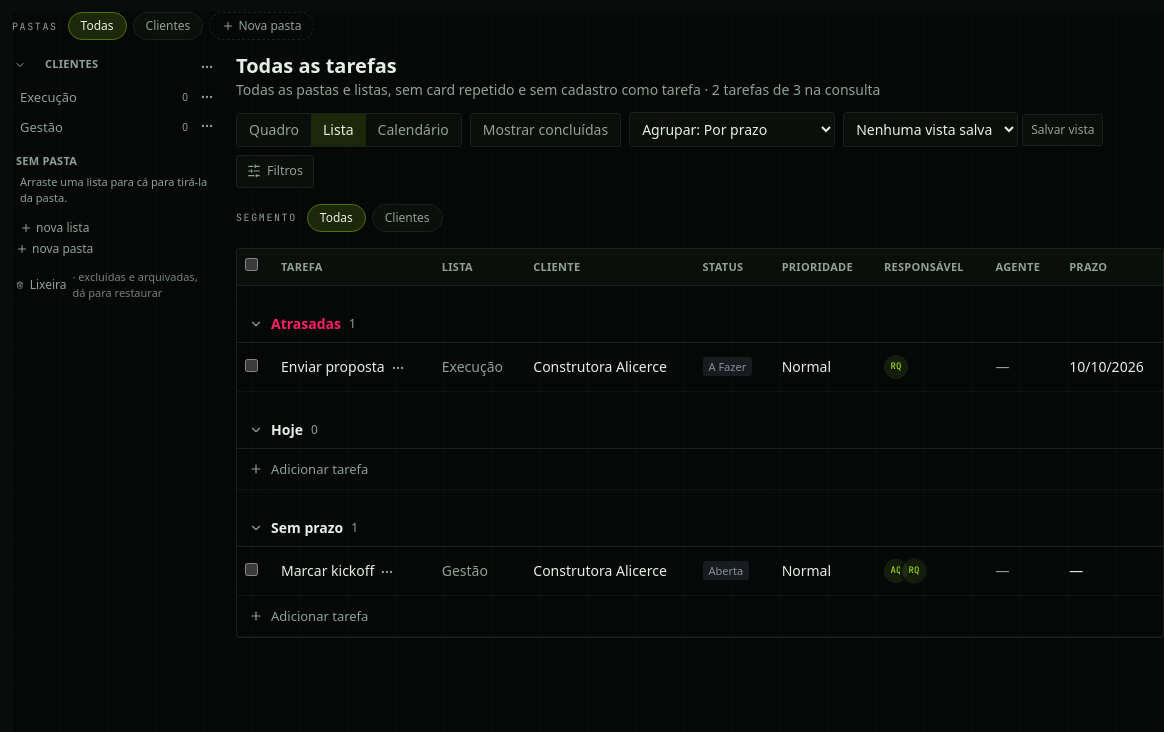
Test: F4: seleção em lote na Lista › Concluir manda um PATCH por tarefa, com a etapa fechada da lista dela e a versão lida; o conflito é contado à parte
The image size is (1164, 732).
Click the checkbox named "Selecionar Enviar proposta". click: (252,365)
box: [245, 359, 258, 372]
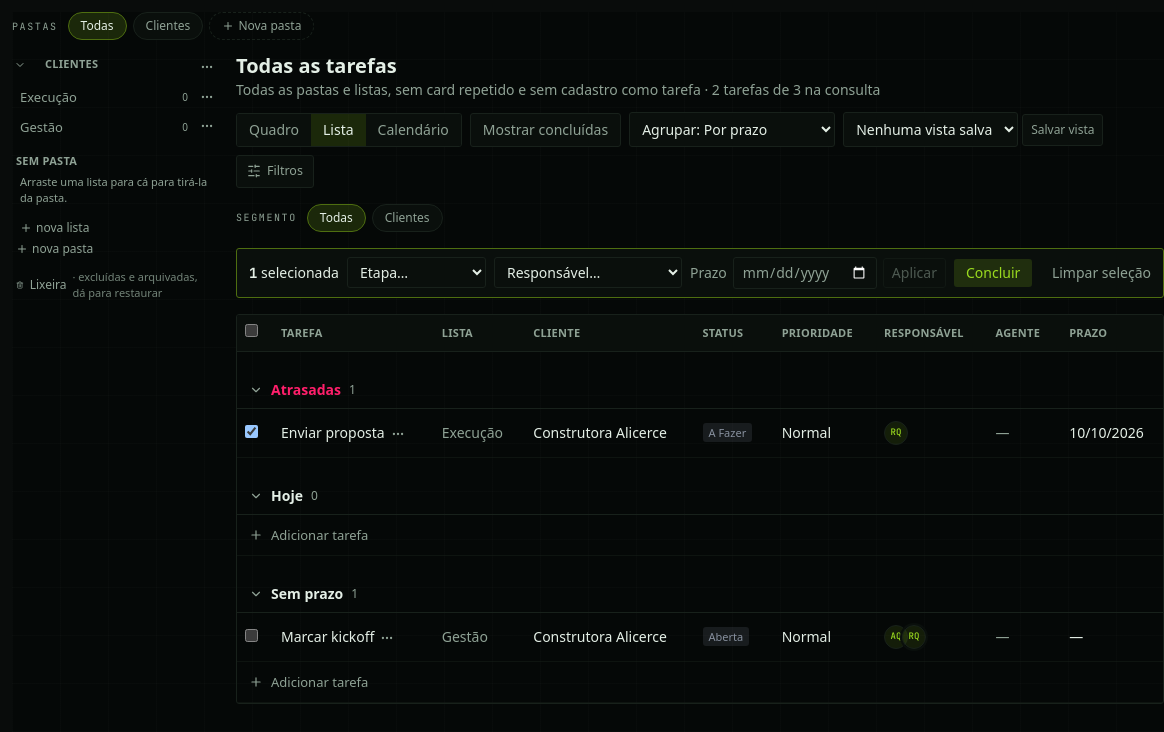
Click the checkbox named "Selecionar Marcar kickoff". click: (252,635)
box: [245, 629, 258, 642]
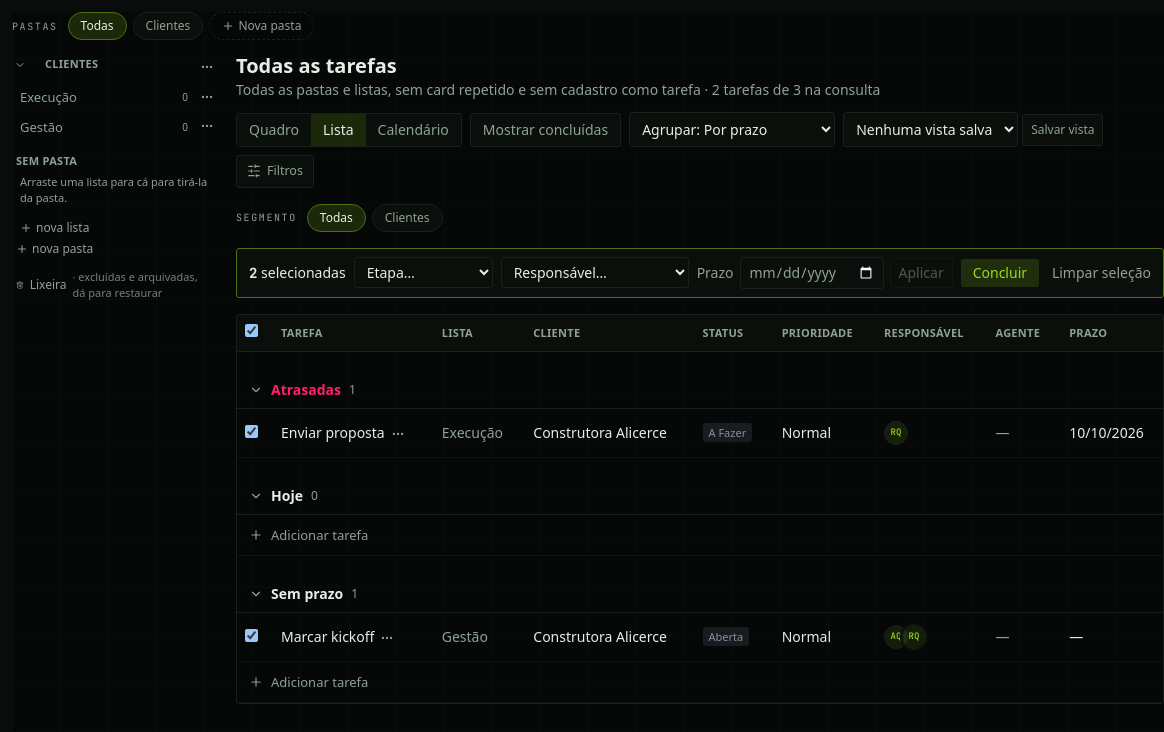
Check: the element with test id "trabalho-lote" shows "2 selecionadas", box [236, 248, 1163, 298]
Click the button with test id "trabalho-lote-concluir". click: (1000,273)
box: [961, 259, 1039, 287]
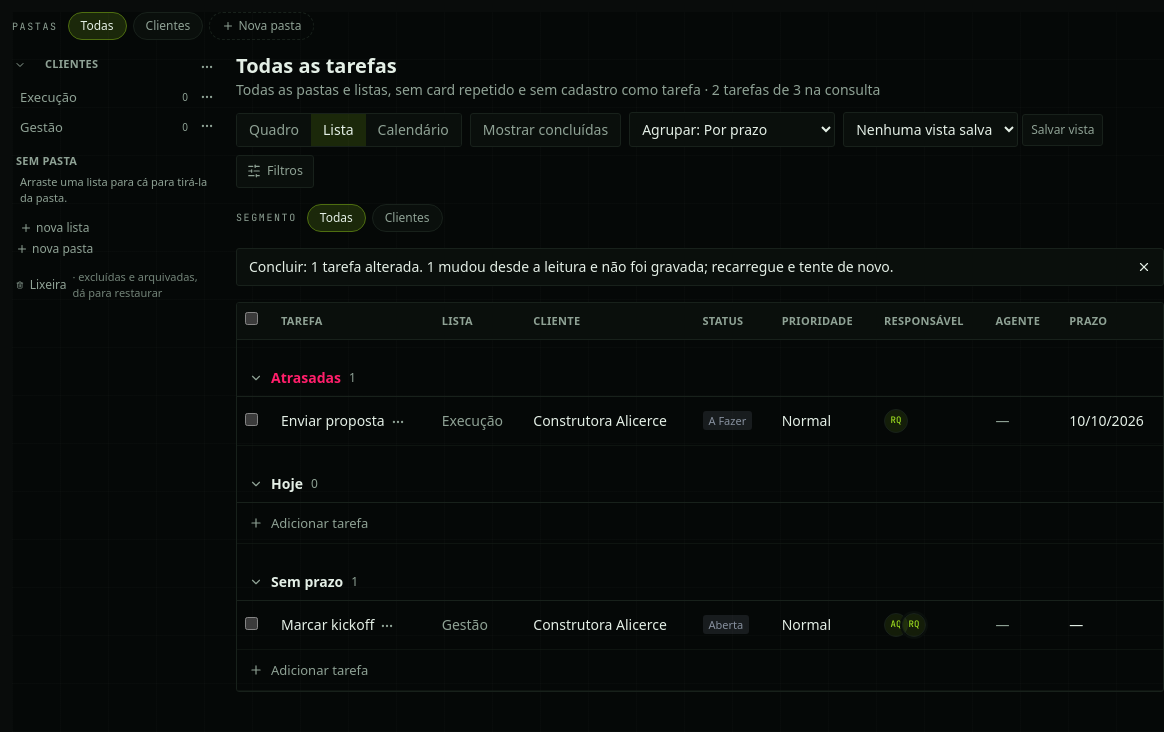
Check: the message with test id "trabalho-lote-aviso" shows "Concluir: 1 tarefa alterada. 1 mudou desde a leitura e não foi gravada", box [249, 257, 894, 276]
